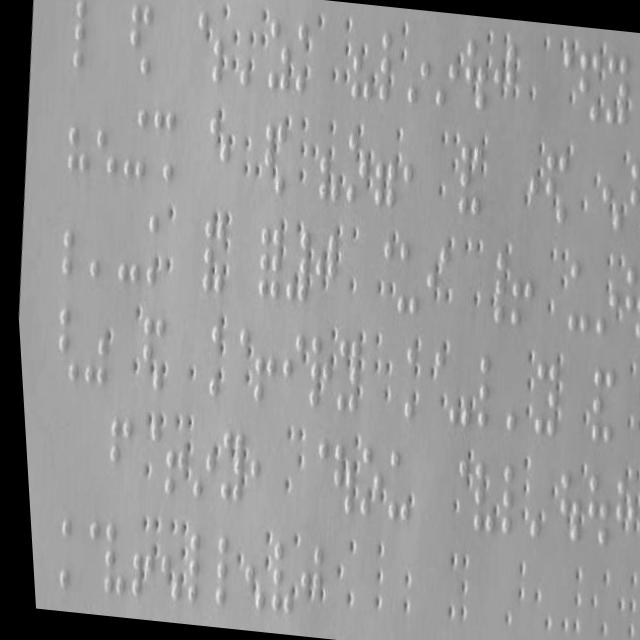braiile: (72, 297, 109, 387), (107, 198, 143, 284), (243, 316, 278, 404), (486, 458, 522, 539), (399, 27, 435, 108), (523, 356, 557, 441), (466, 350, 502, 430), (427, 30, 462, 110), (501, 246, 535, 328), (45, 512, 80, 591), (86, 98, 121, 177), (47, 301, 81, 382), (53, 198, 87, 279), (78, 198, 112, 279), (59, 96, 94, 174), (557, 256, 591, 335), (257, 538, 292, 614), (180, 423, 214, 500), (260, 14, 294, 91), (387, 237, 421, 313), (66, 0, 103, 69), (375, 446, 408, 523), (574, 469, 607, 546), (494, 357, 527, 434), (91, 520, 124, 594), (176, 531, 208, 603), (203, 534, 235, 606), (614, 258, 640, 339), (619, 158, 640, 234)
